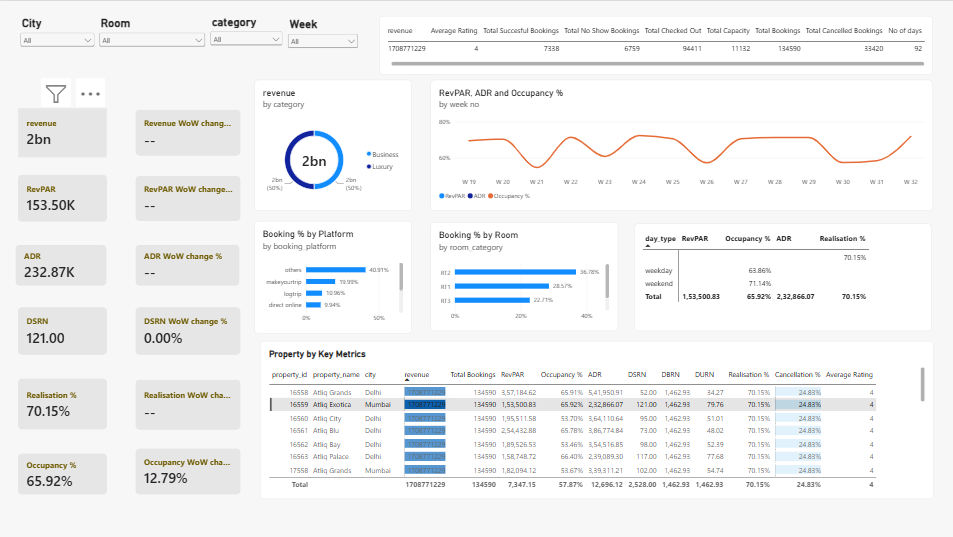

What the dashboard file says about the page in this screenshot:
{"tool":"powerbi","page":{"name":"Page 2","canvas":[1920,1080],"ordinal":0},"visuals":[{"type":"tableEx","fields":{"Values":["key_measures.revenue","key_measures.Average Rating","key_measures.Total Succesful Bookings","key_measures.Total No Show Bookings","key_measures.Total Checked Out","key_measures.Total Capacity","key_measures.Total Bookings","key_measures.Total Cancelled Bookings","key_measures.No of days"]},"box":[762.5,30,1107.5,117.5],"z":0},{"type":"barChart","fields":{"Category":["fact_bookings.room_category"],"Y":["key_measures.Booking % by Room"]},"box":[865,442.5,375,217.5],"z":1000},{"type":"barChart","fields":{"Category":["fact_bookings.booking_platform"],"Y":["key_measures.Booking % by Platform"]},"box":[512.5,440,315,225],"z":2000},{"type":"cardVisual","fields":{"Data":["key_measures.revenue"]},"box":[40,216,178,96],"z":3000},{"type":"cardVisual","fields":{"Data":["key_measures.Revenue WoW change %"]},"box":[275,217.5,210,92.5],"z":4000},{"type":"cardVisual","fields":{"Data":["key_measures.RevPAR"]},"box":[40,348,178,94],"z":5000},{"type":"cardVisual","fields":{"Data":["key_measures.RevPAR WoW change %"]},"box":[275,350,210,90],"z":6000},{"type":"cardVisual","fields":{"Data":["key_measures.DSRN"]},"box":[40,612,178.3,95],"z":7000},{"type":"cardVisual","fields":{"Data":["key_measures.DSRN WoW change %"]},"box":[275,612.5,210,95],"z":8000},{"type":"cardVisual","fields":{"Data":["key_measures.Occupancy %"]},"box":[40,904,178,82],"z":9000},{"type":"cardVisual","fields":{"Data":["key_measures.Occupancy WoW change %"]},"box":[275,895,210,92.5],"z":10000},{"type":"cardVisual","fields":{"Data":["key_measures.ADR"]},"box":[36,488,182,82],"z":11000},{"type":"cardVisual","fields":{"Data":["key_measures.ADR WoW change %"]},"box":[276,488,208,82],"z":12000},{"type":"cardVisual","fields":{"Data":["key_measures.Realisation %"]},"box":[40,756,178,102],"z":13000},{"type":"cardVisual","fields":{"Data":["key_measures.Realisation WoW change %"]},"box":[275,757.5,210,100],"z":14000},{"type":"donutChart","fields":{"Category":["dim_hotels.category"],"Y":["key_measures.revenue"]},"box":[512.5,157.5,315,262.5],"z":15000},{"type":"lineChart","fields":{"Category":["dim_date.week no"],"Y":["key_measures.RevPAR","key_measures.ADR","key_measures.Occupancy %"]},"box":[865,157.5,1005,262.5],"z":16000},{"type":"pivotTable","fields":{"Rows":["dim_date.day_type"],"Values":["key_measures.RevPAR","key_measures.Occupancy %","key_measures.ADR","key_measures.Realisation %"]},"box":[1272.5,445,595,215],"z":17000},{"type":"tableEx","title":"Property by Key Metrics","fields":{"Values":["dim_hotels.property_id","dim_hotels.property_name","dim_hotels.city","key_measures.revenue","key_measures.Total Bookings","key_measures.RevPAR","key_measures.Occupancy %","key_measures.ADR","key_measures.DSRN","key_measures.DBRN","key_measures.DURN","key_measures.Realisation %"]},"box":[526,680,1346,316],"z":18000},{"type":"slicer","fields":{"Values":["dim_hotels.city"]},"box":[40,30,158,66],"z":19000},{"type":"slicer","fields":{"Values":["dim_hotels.category"]},"box":[420,27.5,154,62],"z":20000},{"type":"slicer","fields":{"Values":["dim_date.week no"]},"box":[575,32.5,150,62],"z":21000},{"type":"slicer","fields":{"Values":["dim_rooms.room_class"]},"box":[197.5,30,222,64],"z":21001}]}

Visuals, with their boxes in screenshot pixels (x1, y1, x2, y2), scaled from the page's 1920x1080 canvas onto the 953x537 screenshot:
tableEx - key_measures.revenue x key_measures.Average Rating: {"left": 378, "top": 15, "right": 928, "bottom": 73}
barChart - fact_bookings.room_category x key_measures.Booking % by Room: {"left": 429, "top": 220, "right": 615, "bottom": 328}
barChart - fact_bookings.booking_platform x key_measures.Booking % by Platform: {"left": 254, "top": 219, "right": 411, "bottom": 331}
cardVisual - key_measures.revenue: {"left": 20, "top": 107, "right": 108, "bottom": 155}
cardVisual - key_measures.Revenue WoW change %: {"left": 136, "top": 108, "right": 241, "bottom": 154}
cardVisual - key_measures.RevPAR: {"left": 20, "top": 173, "right": 108, "bottom": 220}
cardVisual - key_measures.RevPAR WoW change %: {"left": 136, "top": 174, "right": 241, "bottom": 219}
cardVisual - key_measures.DSRN: {"left": 20, "top": 304, "right": 108, "bottom": 352}
cardVisual - key_measures.DSRN WoW change %: {"left": 136, "top": 305, "right": 241, "bottom": 352}
cardVisual - key_measures.Occupancy %: {"left": 20, "top": 449, "right": 108, "bottom": 490}
cardVisual - key_measures.Occupancy WoW change %: {"left": 136, "top": 445, "right": 241, "bottom": 491}
cardVisual - key_measures.ADR: {"left": 18, "top": 243, "right": 108, "bottom": 283}
cardVisual - key_measures.ADR WoW change %: {"left": 137, "top": 243, "right": 240, "bottom": 283}
cardVisual - key_measures.Realisation %: {"left": 20, "top": 376, "right": 108, "bottom": 427}
cardVisual - key_measures.Realisation WoW change %: {"left": 136, "top": 377, "right": 241, "bottom": 426}
donutChart - dim_hotels.category x key_measures.revenue: {"left": 254, "top": 78, "right": 411, "bottom": 209}
lineChart - dim_date.week no x key_measures.RevPAR: {"left": 429, "top": 78, "right": 928, "bottom": 209}
pivotTable - dim_date.day_type x key_measures.RevPAR: {"left": 632, "top": 221, "right": 927, "bottom": 328}
"Property by Key Metrics" tableEx: {"left": 261, "top": 338, "right": 929, "bottom": 495}
slicer - dim_hotels.city: {"left": 20, "top": 15, "right": 98, "bottom": 48}
slicer - dim_hotels.category: {"left": 208, "top": 14, "right": 285, "bottom": 45}
slicer - dim_date.week no: {"left": 285, "top": 16, "right": 360, "bottom": 47}
slicer - dim_rooms.room_class: {"left": 98, "top": 15, "right": 208, "bottom": 47}
